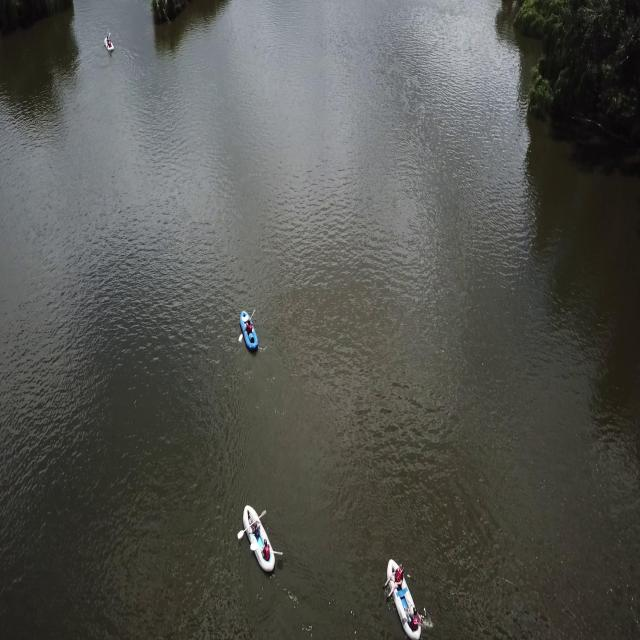kayak: (384, 559, 434, 639), (234, 503, 281, 575), (238, 304, 260, 356), (102, 34, 116, 59)
